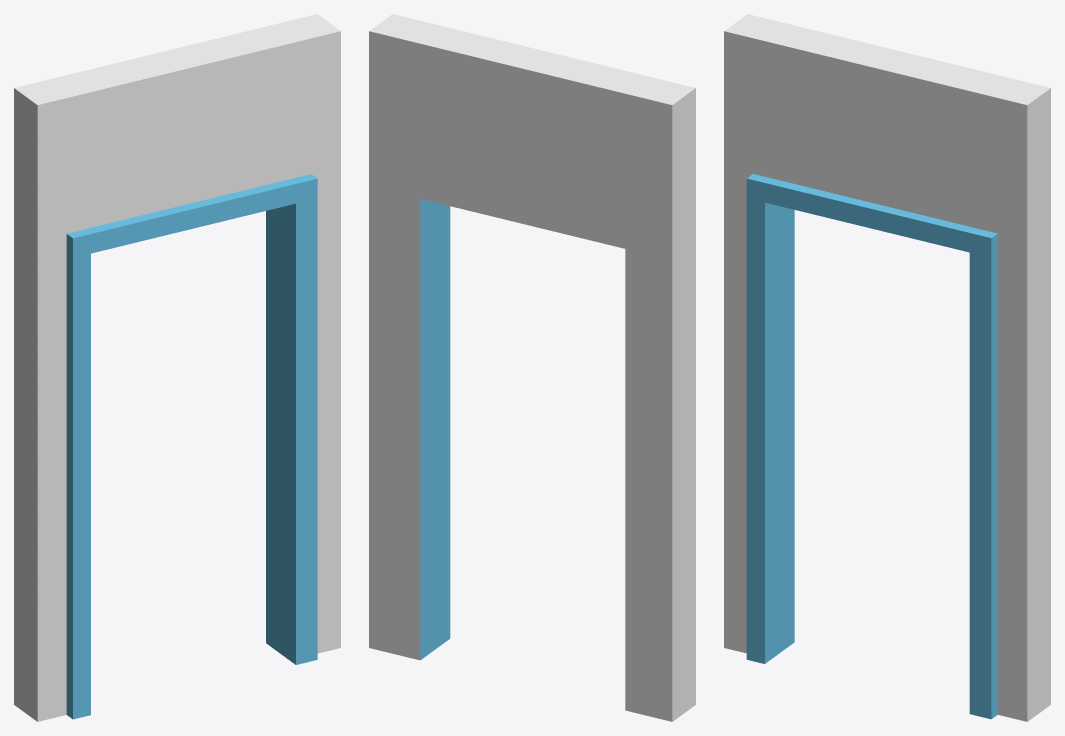
Rendered from option_scarlet.fbx.
3 renders of one model, left to right at view 1: azimuth 30°, elevation 25°; view 2: azimuth 150°, elevation 25°; view 3: azimuth 330°, elevation 25°, orthographic.
Parts seen in each view (by area): view 1: door_frame1, vote_colour; view 2: door_frame1, vote_colour; view 3: door_frame1, vote_colour.
Boxes of the visible parts, x1,y1,x2,y2 form: door_frame1: (14, 14, 340, 721); vote_colour: (66, 174, 317, 719); door_frame1: (369, 14, 695, 721); vote_colour: (420, 199, 450, 659); door_frame1: (724, 14, 1050, 721); vote_colour: (746, 174, 997, 719).
Size of the model in its own units: 295 by 573 by 50.26.
